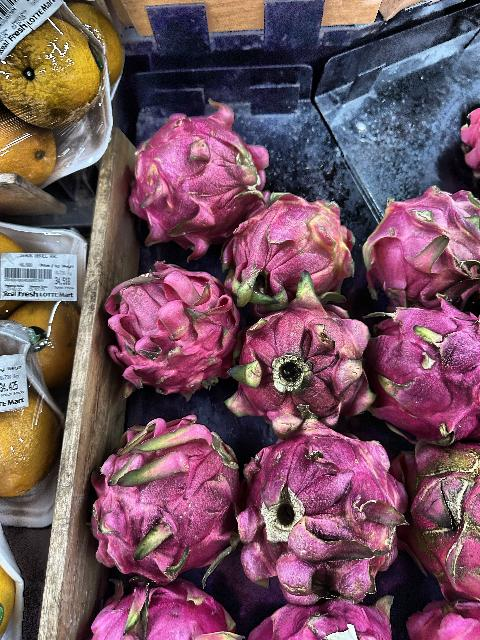buah-naga-belum-matang: (233, 198, 353, 304)
buah-naga-matang: (245, 422, 403, 596), (94, 399, 238, 579), (237, 294, 377, 438), (113, 264, 242, 402), (362, 300, 480, 434), (136, 113, 255, 241), (366, 188, 480, 306), (406, 444, 480, 602)
